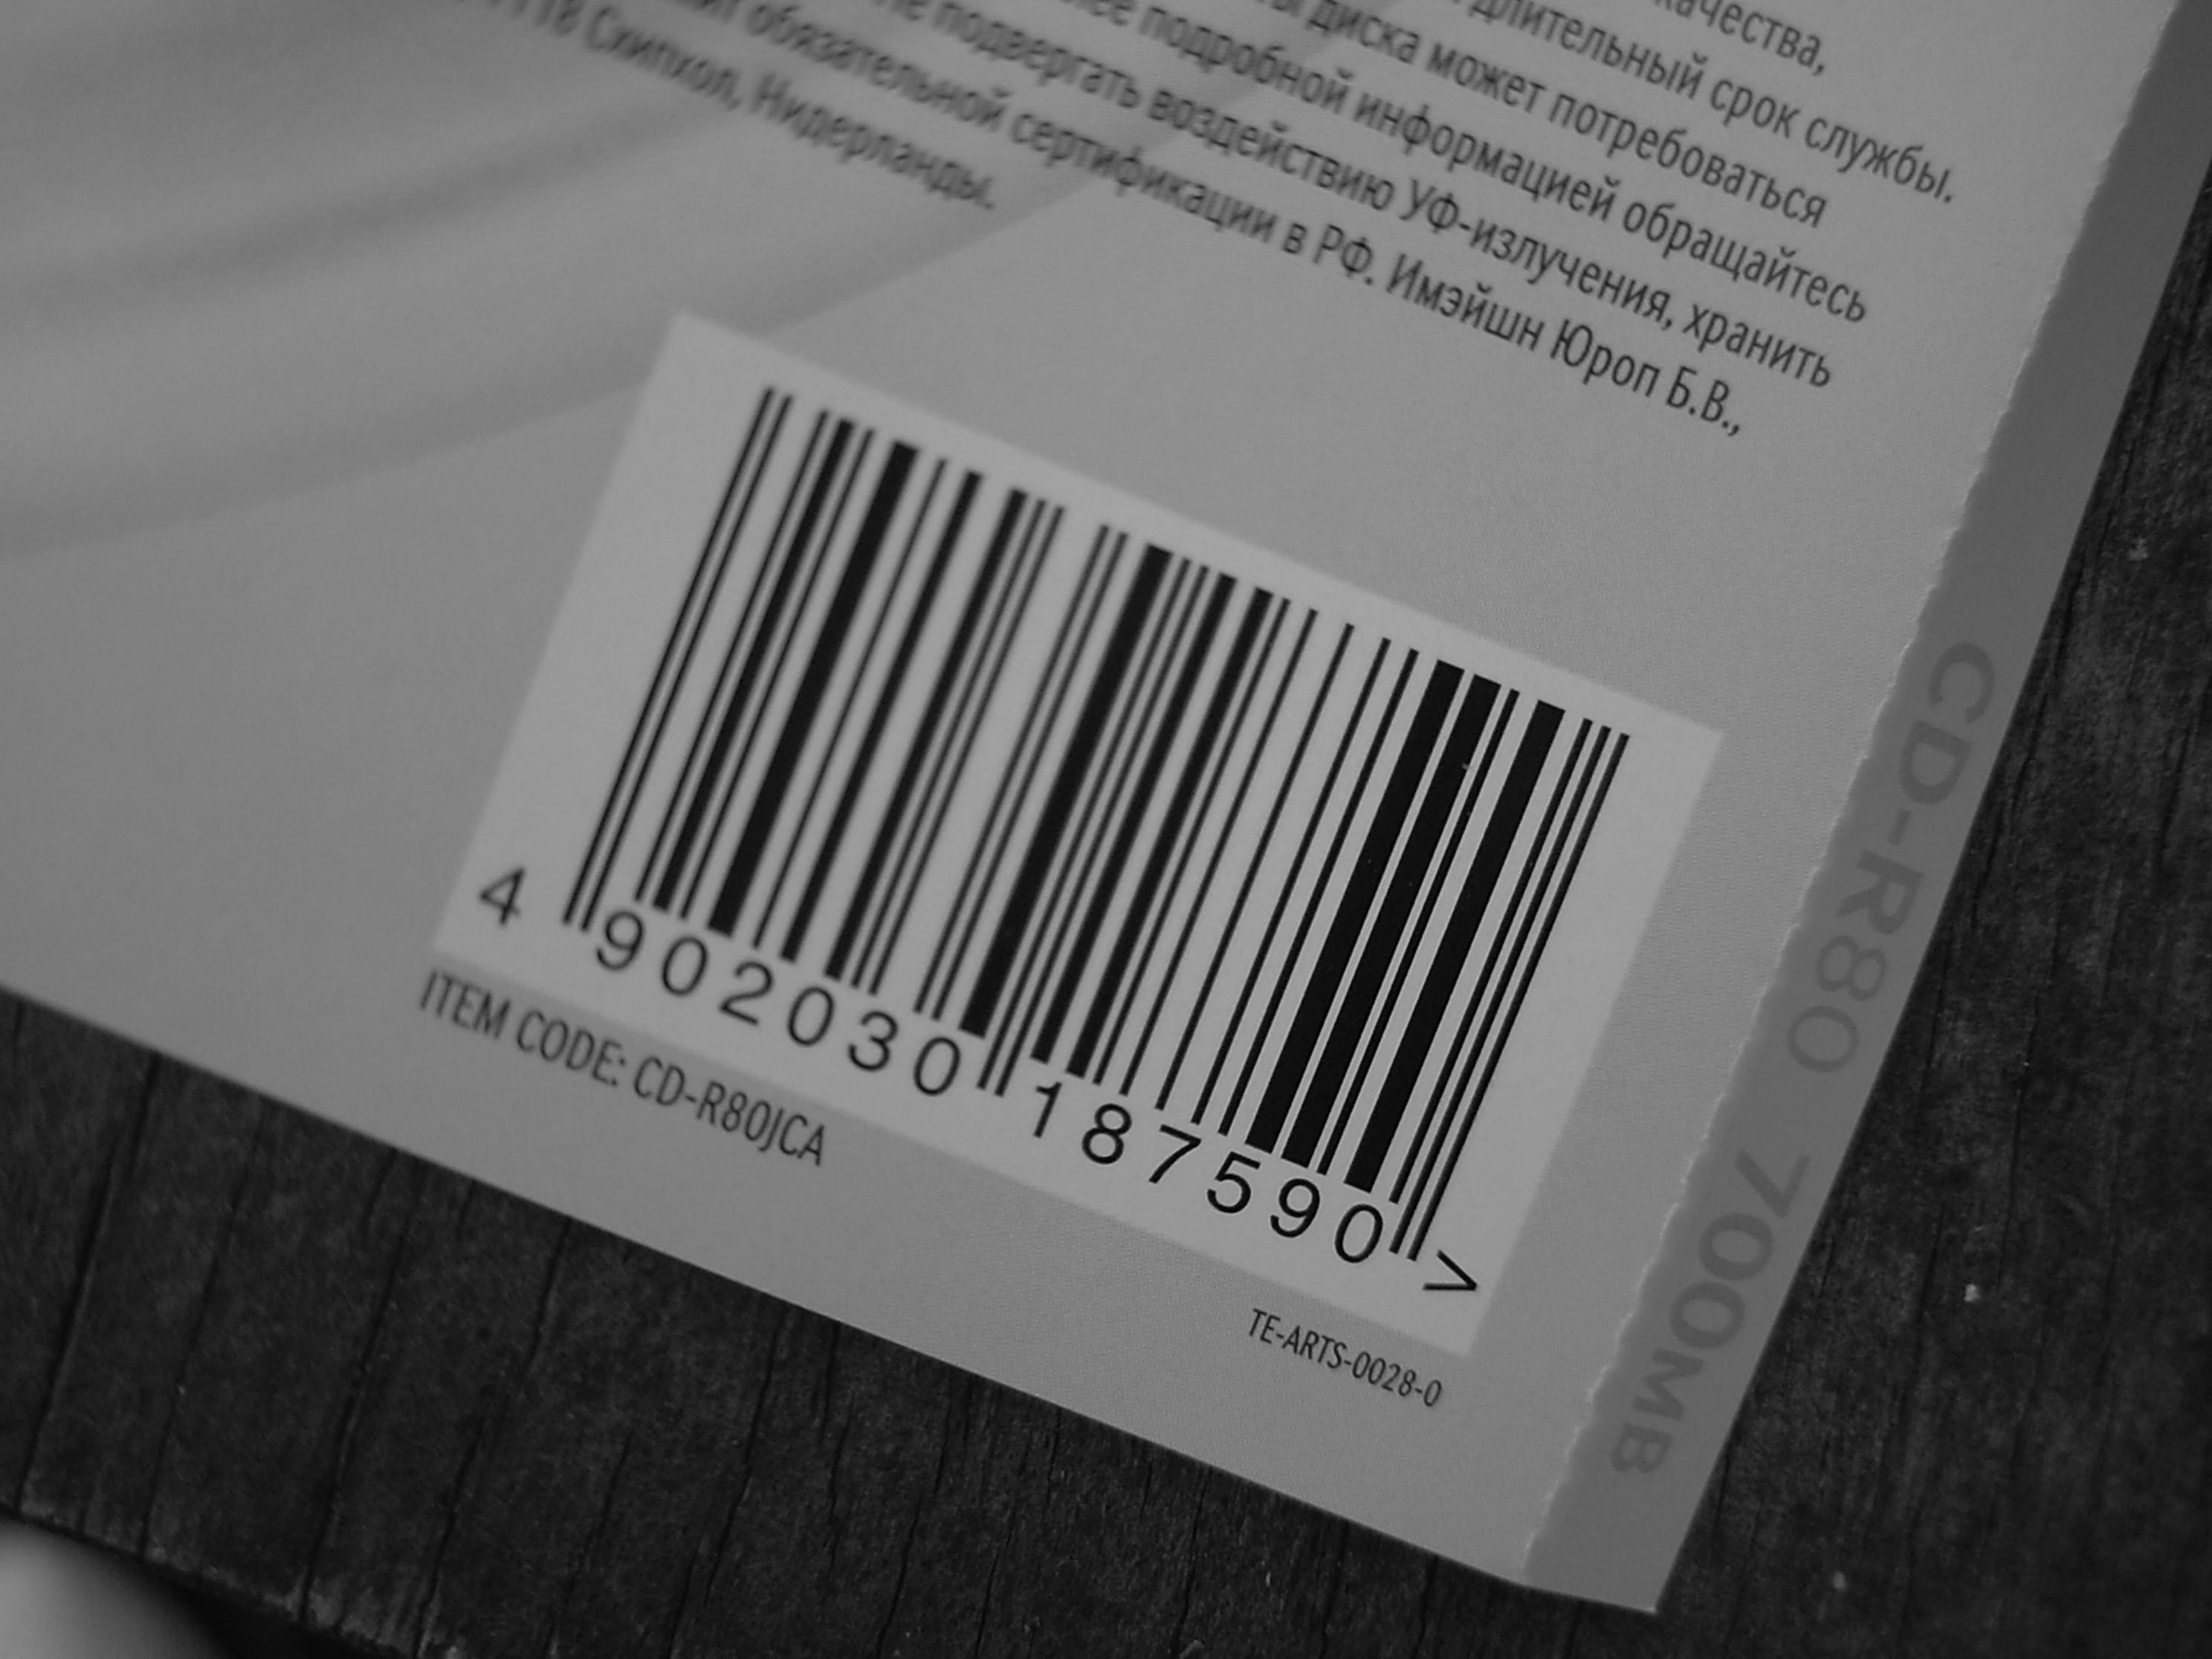Barcode: (610, 338, 1639, 1265)
